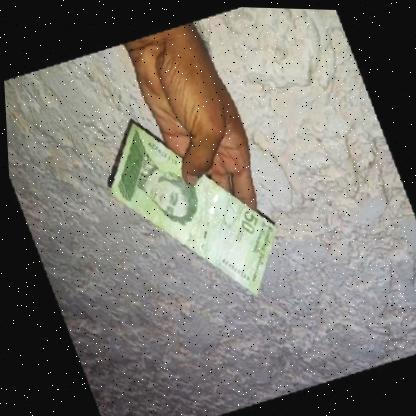fifty-front-vef: (89, 94, 290, 321)
